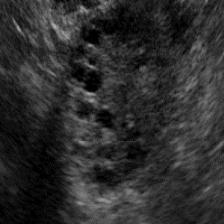pcos: (7, 2, 198, 214)
